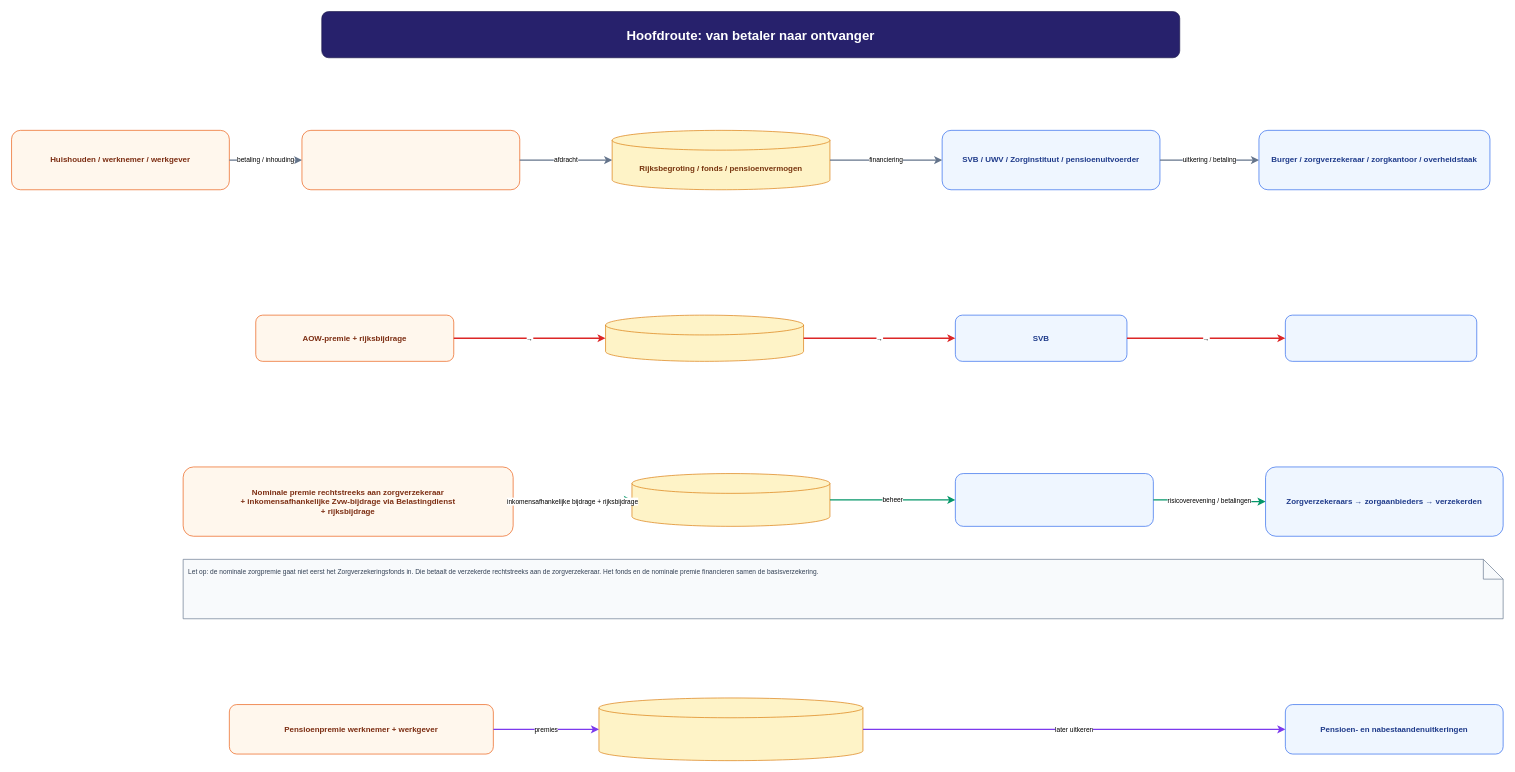
This 1515x772 diagram has some shape labels left out. Each missing label, with the centre of its shape:
"AOW-gerechtigden" goes at (x=1381, y=337).
"Belastingdienst / werkgever / verzekeraar" goes at (x=410, y=160).
"Ouderdomsfonds" goes at (x=704, y=337).
"Pensioenfonds / verzekeraar / PPI belegd pensioenvermogen" goes at (x=730, y=729).
"Zorginstituut Nederland" goes at (x=1054, y=499).
"Zorgverzekeringsfonds" goes at (x=730, y=499).
